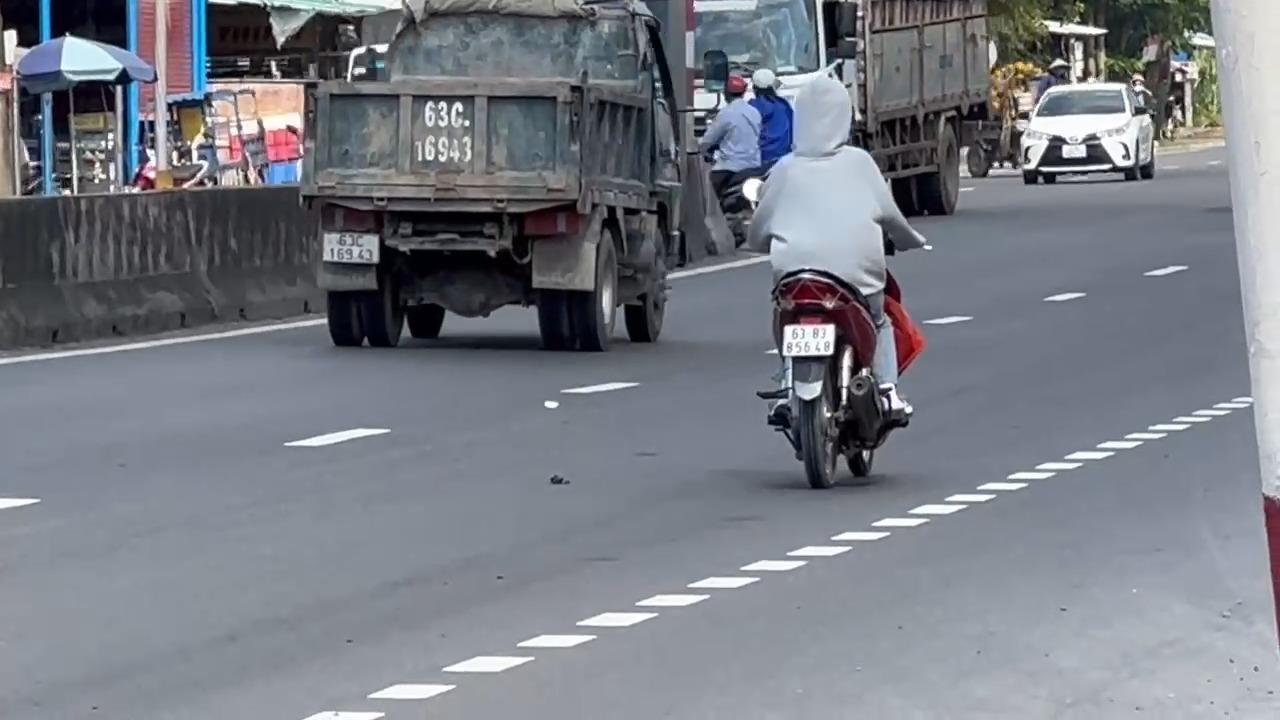bien_so: (322, 230, 380, 265), (781, 322, 836, 357)
